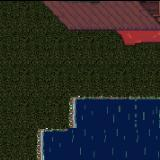Interaction: (82, 87, 160, 106), (30, 119, 48, 160), (47, 118, 83, 136), (66, 88, 82, 119)
Obstacle: (71, 0, 160, 67)
Slow: (44, 131, 160, 160), (77, 100, 160, 131)
